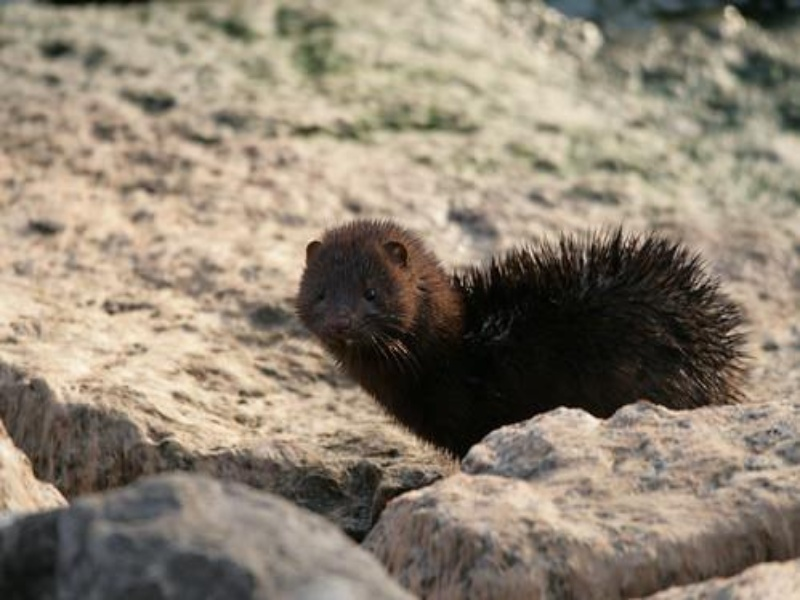minkish: (295, 219, 751, 472)
